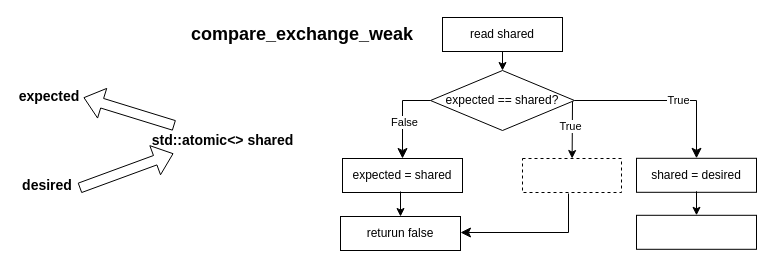
Some shapes in this 774 by 268 pixel diagram are drawn without their labels. The shapes that lost their labels are listed below. From the top down, each one's box as (x1, y1, x2, y2) in pixels, then its label:
(522, 158, 622, 192): spurious failure
(636, 214, 756, 249): return true
